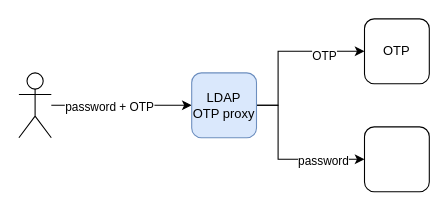
The diagram is 448 pixels wide and 211 high, and some of its shapes have lost their labels. Here are the shapes that lost their labels. From the top down, the centre of each, then its label:
the point at 34,105: User
the point at 396,159: LDAP
